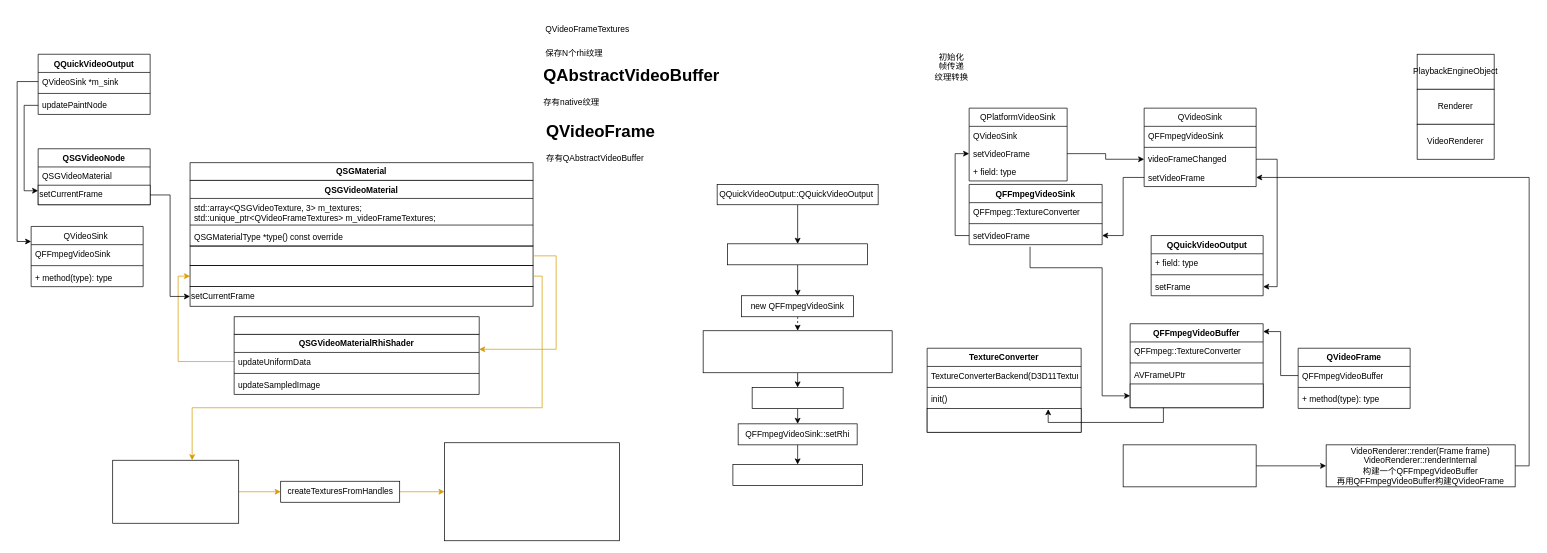
This 1547x553 diagram has some shape labels left out. Each missing label, with the centre of its shape:
"createTextureFromHandle 从qvideframe的videobuffer中拿到native纹理句柄并通过此句柄构建一个rhi纹理" belongs at [532,491].
"createTextures 将qvideoframe中的本地纹理转换为rhi纹理 再用rhi纹理构建QSGVideoTexture" belongs at [175,491].
"new QVideoSink::QVideoSink" belongs at [797,254].
"QFFmpeg::StreamDecoder" belongs at [1189,465].
"QFFmpeg::TextureConverter(rhi)" belongs at [797,474].
"QQuickVideoOutput::_q_sceneGraphInitialized QQuickVideoOutput::initRhiForSink" belongs at [797,351].
"QSGMaterialShader" belongs at [356,325].
"QSGMaterialShader *createShader(QSGRendererInterface::RenderMode) const override" belongs at [361,255].
"QVideoSink::setRhi" belongs at [797,397].
"setTextureConverter()" belongs at [1196,395].
"updateBackend()" belongs at [1003,420].
"updateTextures" belongs at [361,276].
